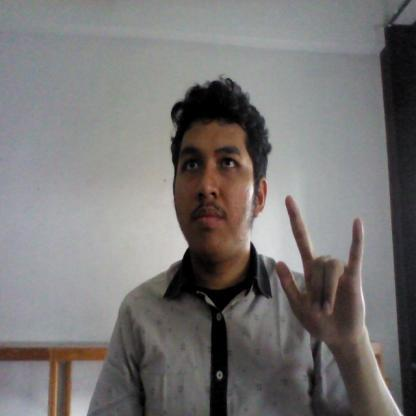ILoveYou: (272, 176, 368, 350)
